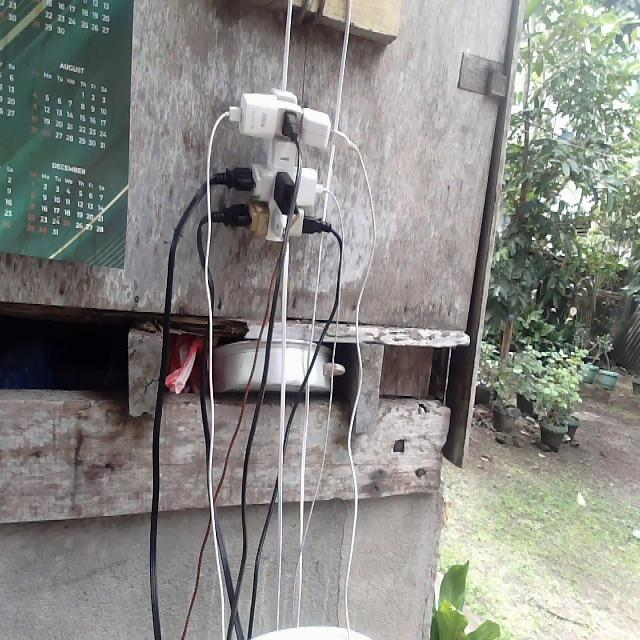-: (217, 85, 342, 248)
